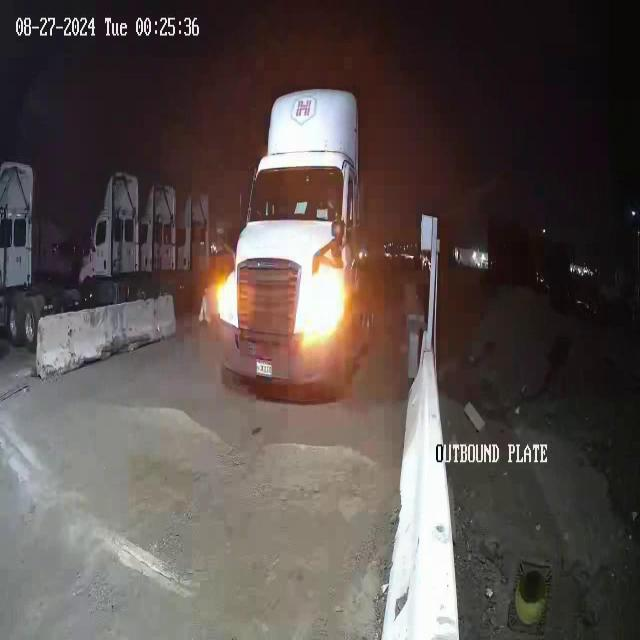TRUCK_OUT: (218, 86, 370, 404)
